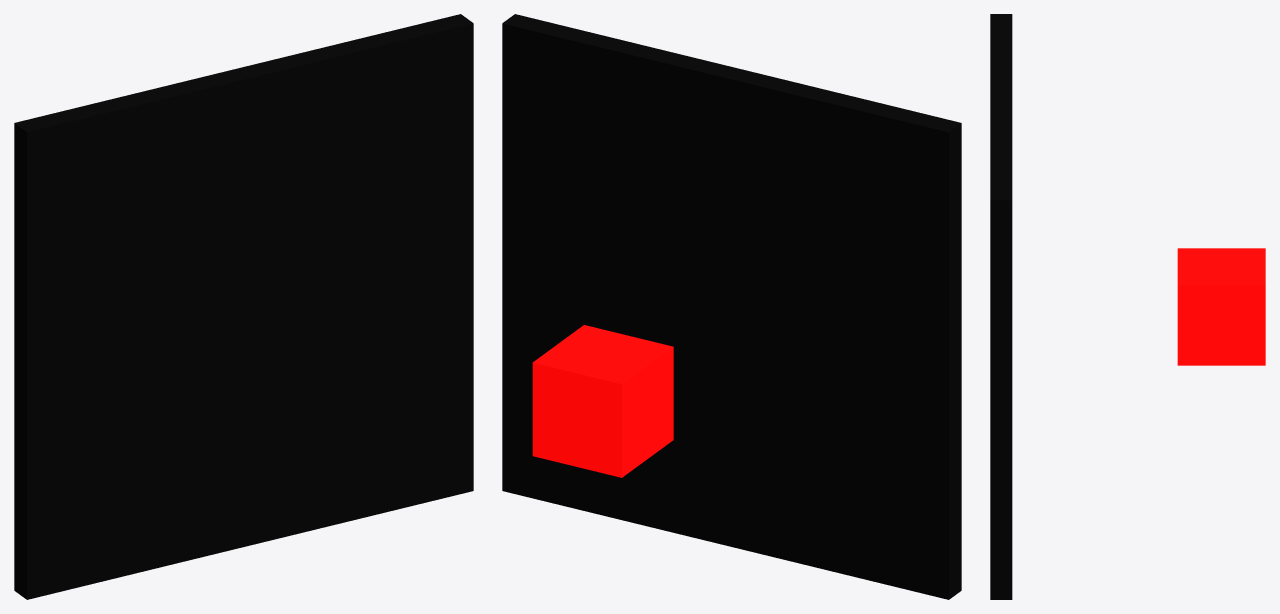
Rendered from bloom_demo.glb.
3 views of the same model, side by side, from view 1: azimuth 30°, elevation 25°; view 2: azimuth 150°, elevation 25°; view 3: azimuth 270°, elevation 25° (orthographic). The views are drawn at different scales.
Visible parts, largest first — view 1: Cube.001; view 2: Cube.001, Cube; view 3: Cube.001, Cube.
Part boxes in pixels (box(x1,y1,x2,y2)): Cube.001: box(14, 14, 473, 599); Cube.001: box(502, 14, 961, 599); Cube: box(532, 325, 673, 477); Cube.001: box(990, 14, 1012, 599); Cube: box(1177, 248, 1265, 365).
Bounding box in the file's own units: 10 × 10 × 6.25.
